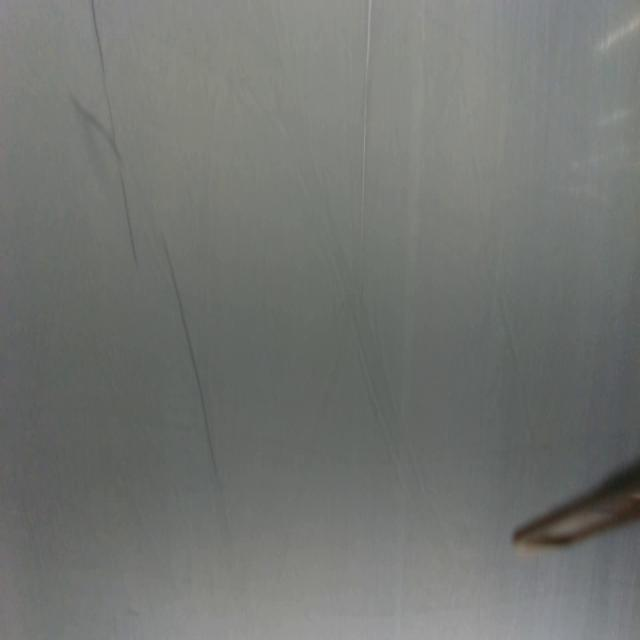crease: (162, 233, 220, 479), (92, 0, 138, 261), (66, 90, 121, 161), (358, 0, 372, 276)
